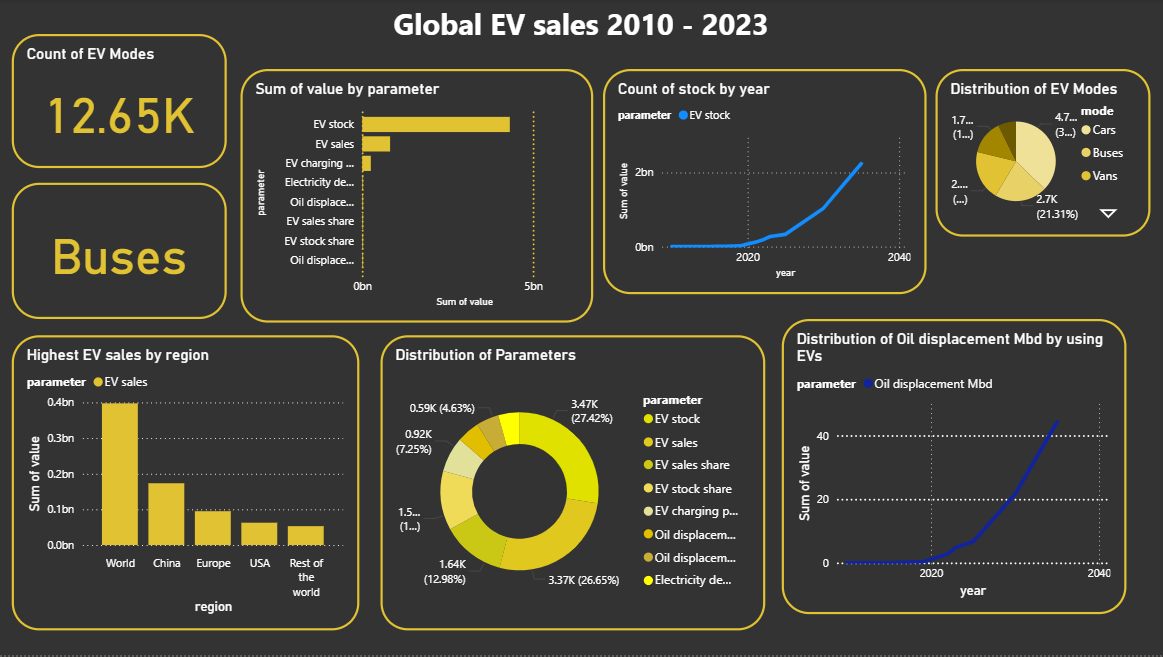

What the dashboard file says about the page in this screenshot:
{"tool":"powerbi","page":{"name":"Page 1","canvas":[1280,720],"ordinal":0},"visuals":[{"type":"textbox","box":[0,0,1280.3,76.8],"z":0},{"type":"card","title":"Count of EV Modes","fields":{"Values":["CountNonNull(IEA Global EV Data 2024.mode)"]},"box":[15.1,38.4,236,146.8],"z":1000},{"type":"pieChart","title":"Distribution of EV Modes","fields":{"Category":["IEA Global EV Data 2024.mode"],"Y":["CountNonNull(IEA Global EV Data 2024.mode)"]},"box":[1029.2,76.8,236,183.9],"z":2000},{"type":"card","fields":{"Values":["Min(IEA Global EV Data 2024.mode)"]},"box":[15.1,201.7,236,149.6],"z":3000},{"type":"clusteredBarChart","fields":{"Y":["Sum(IEA Global EV Data 2024.value)"],"Category":["IEA Global EV Data 2024.parameter"]},"box":[266.2,76.8,387,278.6],"z":4000},{"type":"lineChart","title":"Count of stock by year","fields":{"Category":["IEA Global EV Data 2024.year"],"Series":["IEA Global EV Data 2024.parameter"],"Y":["Sum(IEA Global EV Data 2024.value)"]},"box":[664.2,76.8,355.4,247],"z":5000},{"type":"clusteredColumnChart","title":"Highest EV sales by region","fields":{"Series":["IEA Global EV Data 2024.parameter"],"Category":["IEA Global EV Data 2024.region"],"Y":["Sum(IEA Global EV Data 2024.value)"]},"box":[15.1,369.1,381.5,323.8],"z":6000},{"type":"donutChart","title":"Distribution of Parameters","fields":{"Category":["IEA Global EV Data 2024.parameter"],"Y":["CountNonNull(IEA Global EV Data 2024.parameter)"]},"box":[419.9,369.1,422.6,323.8],"z":7000},{"type":"lineChart","title":"Distribution of Oil displacement Mbd by using EVs","fields":{"Series":["IEA Global EV Data 2024.parameter"],"Category":["IEA Global EV Data 2024.year"],"Y":["Sum(IEA Global EV Data 2024.value)"]},"box":[860,351.4,378.6,324.3],"z":8000}]}

Visuals, with their boxes in screenshot pixels (x1, y1, x2, y2), scaled from the page's 1280x720 canvas onto the 1163x657 screenshot:
textbox: 0/0/1162/70
"Count of EV Modes" card: 14/35/228/169
"Distribution of EV Modes" pieChart: 935/70/1150/238
card - Min(IEA Global EV Data 2024.mode): 14/184/228/321
clusteredBarChart - Sum(IEA Global EV Data 2024.value) x IEA Global EV Data 2024.parameter: 242/70/593/324
"Count of stock by year" lineChart: 603/70/926/295
"Highest EV sales by region" clusteredColumnChart: 14/337/360/632
"Distribution of Parameters" donutChart: 382/337/765/632
"Distribution of Oil displacement Mbd by using EVs" lineChart: 781/321/1125/617
